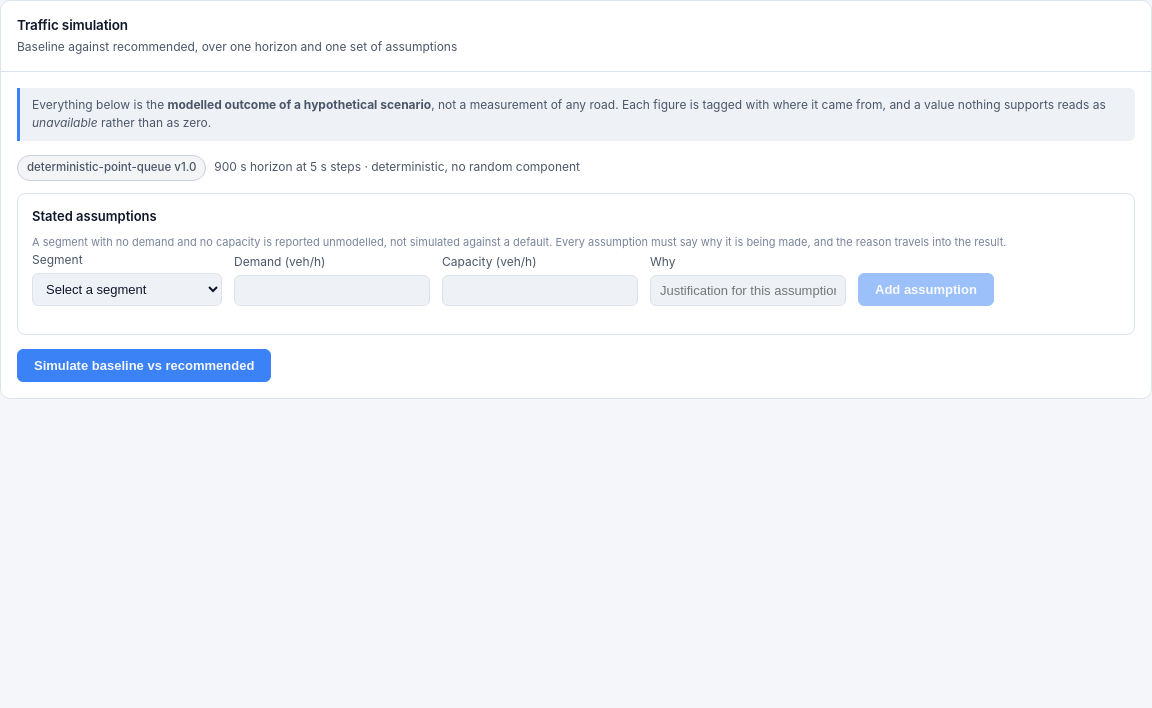
Test: SimulationPanel › renders a blocked route as a refusal with its cause, not a time
What coordinates should you click on to do the following:
click the button "Simulate baseline vs recommended"
I would click on:
 (144, 366)
Its box is [17,349,271,382].
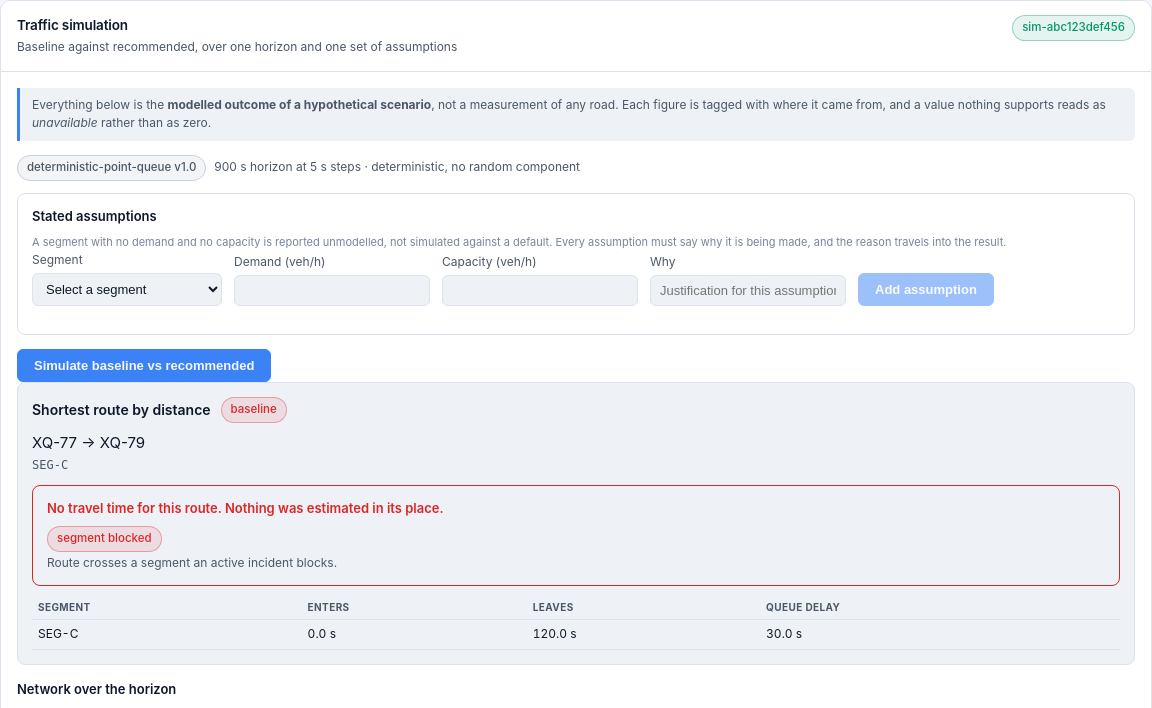
Expected: the text "No travel time for this route" is shown, [47,500,444,516]
Expected: the text "segment blocked" is shown, [47,526,162,552]
Expected: the text "Route crosses a segment an active incident blocks." is shown, [47,555,337,570]
